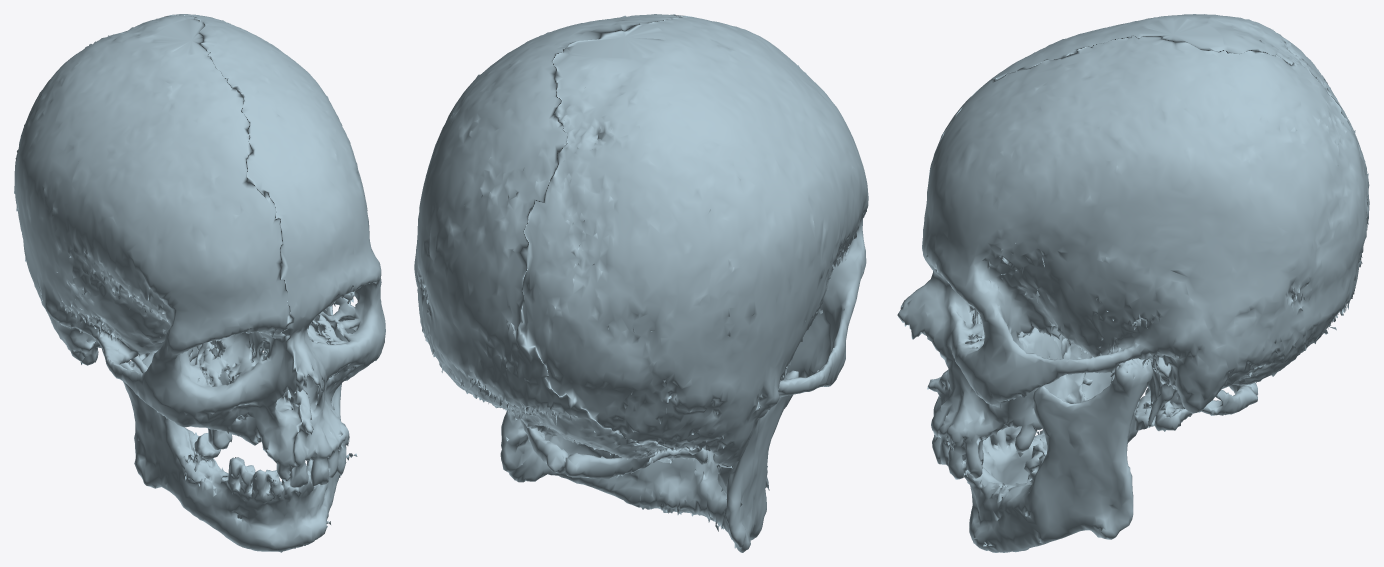
Rendered from skull_full.glb.
3 renders of one model, left to right at view 1: azimuth 30°, elevation 25°; view 2: azimuth 150°, elevation 25°; view 3: azimuth 270°, elevation 25°, orthographic. The views are drawn at different scales.
Parts seen in each view (by area): view 1: geometry_0; view 2: geometry_0; view 3: geometry_0.
Boxes of the visible parts, x1=… form: geometry_0: x1=14, y1=14, x2=385, y2=552; geometry_0: x1=414, y1=14, x2=868, y2=552; geometry_0: x1=897, y1=14, x2=1369, y2=552.
Bounding box in the file's own units: 0.1502 × 0.2197 × 0.1887.
